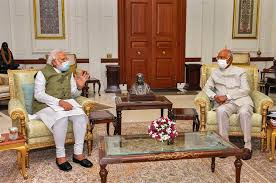Good: (32, 43, 257, 133)
